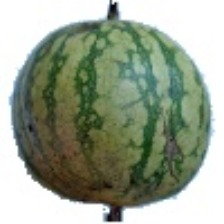watermelon: (48, 62, 215, 199)
